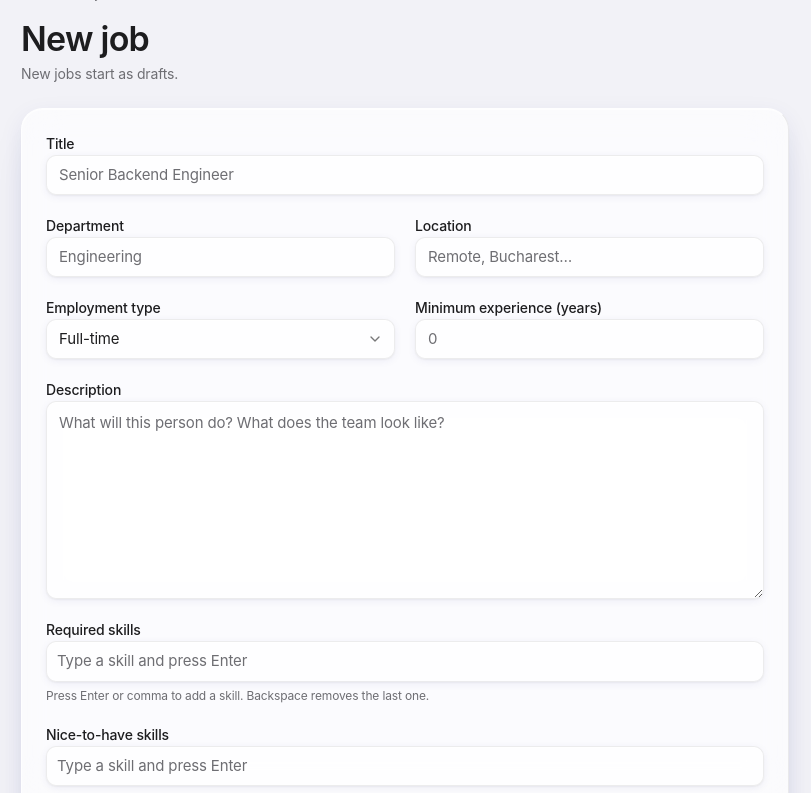
JobForm (create) › reports a server error as a toast and marks the field inline on a 422
This screenshot has width=811, height=793.
Type "Dev" into the field labelled "Title" at (405, 175), box 46,155 -> 764,195
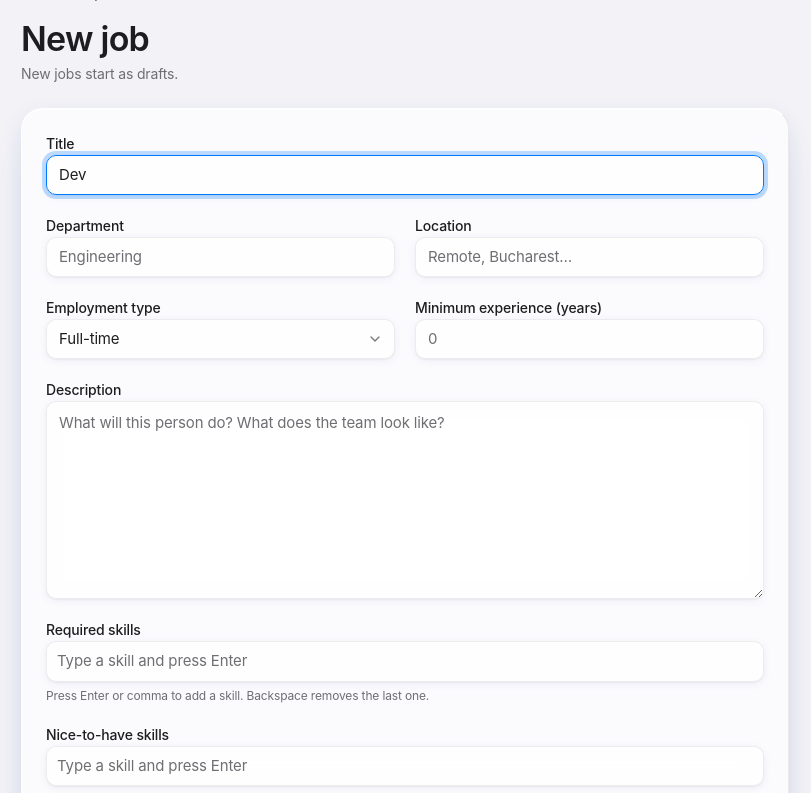
Type "Write code" into the text box labelled "Description" at (405, 500), box 46,401 -> 764,599
(page scrolled)
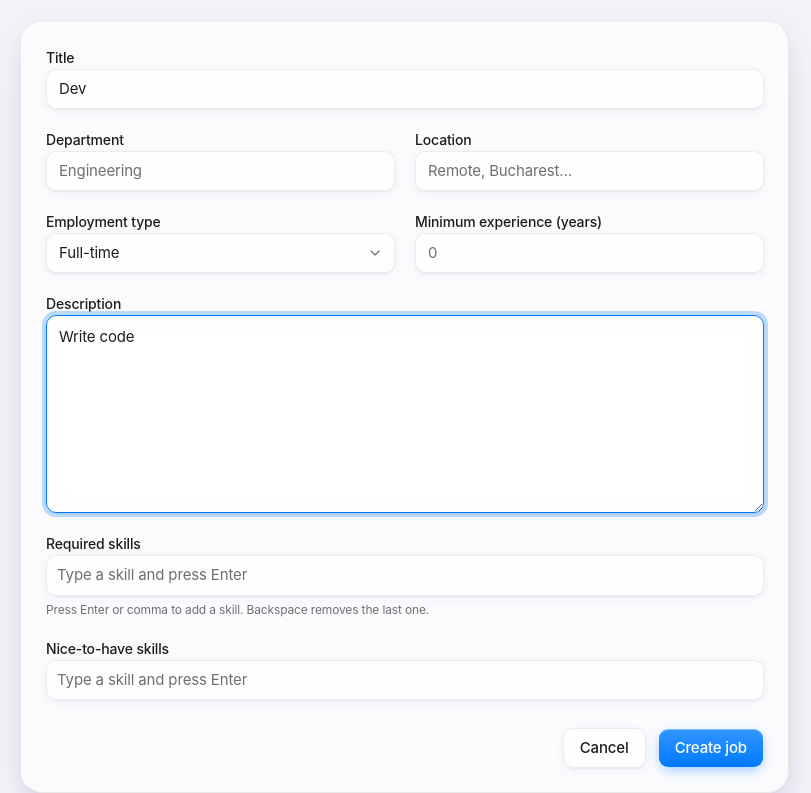
Click the button "Create job" at (711, 748), box 658,728 -> 764,768
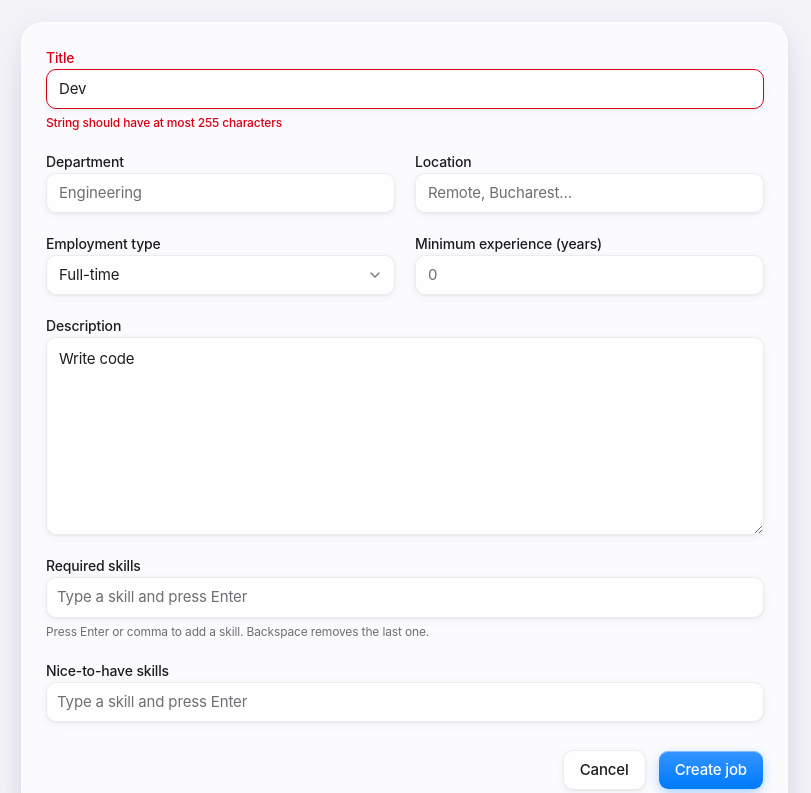
Expected: the text "String should have at most 255 characters" is shown, 46,115 -> 282,130
